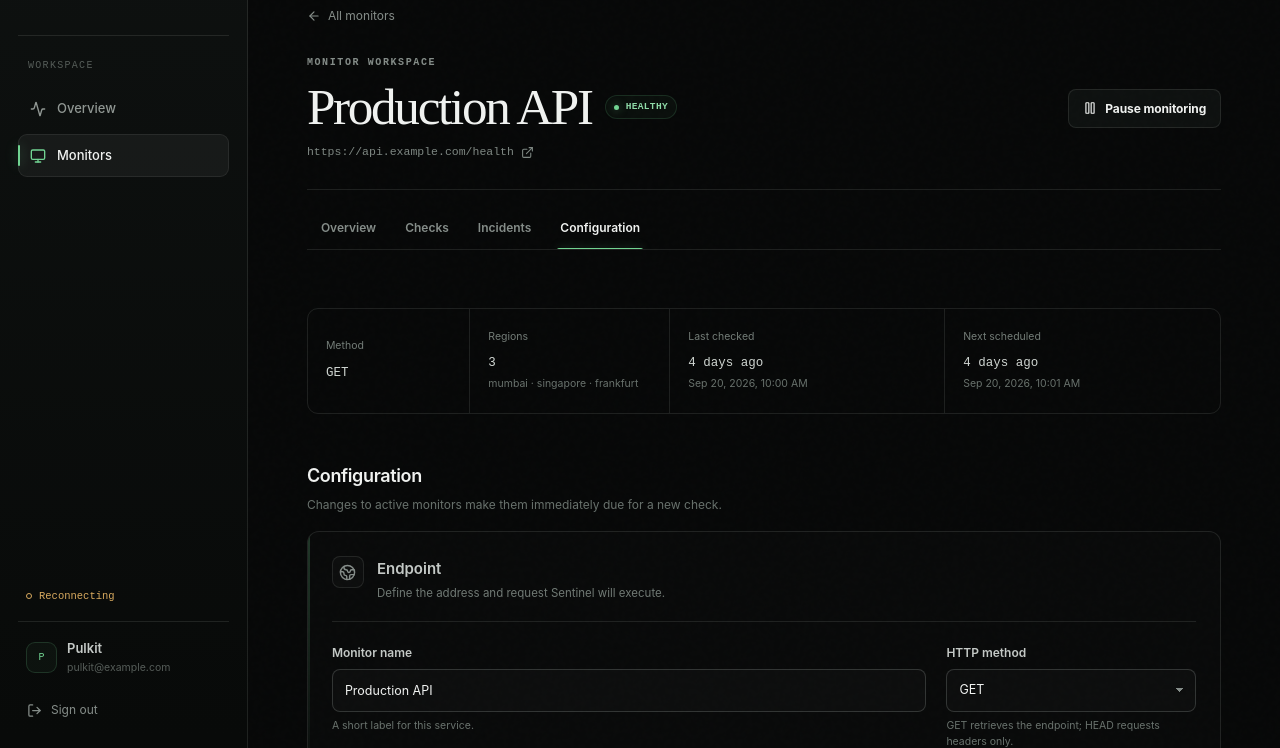
Scenario: Sentinel monitor workspace › edits a monitor with a PATCH containing only changed mutable fields
The width and height of the screenshot is (1280, 748).
Expected: the heading "Production API" is shown, [307,81,592,133]
Type "Renamed API" into the field labelled "Monitor name".
click(629, 690); type("Renamed API")  # box [332,669,926,712]
(page scrolled)
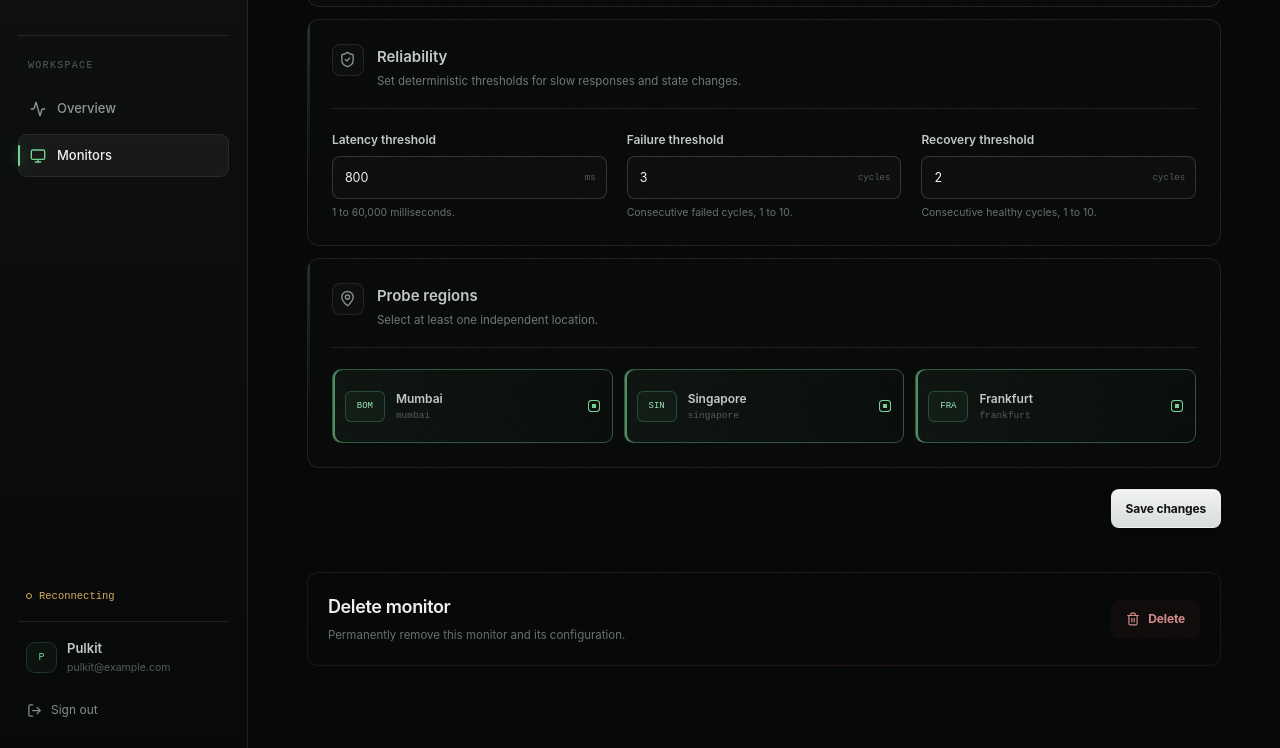
Click the button "Save changes".
click(1166, 509)  # box [1110,489,1221,528]
(page scrolled)
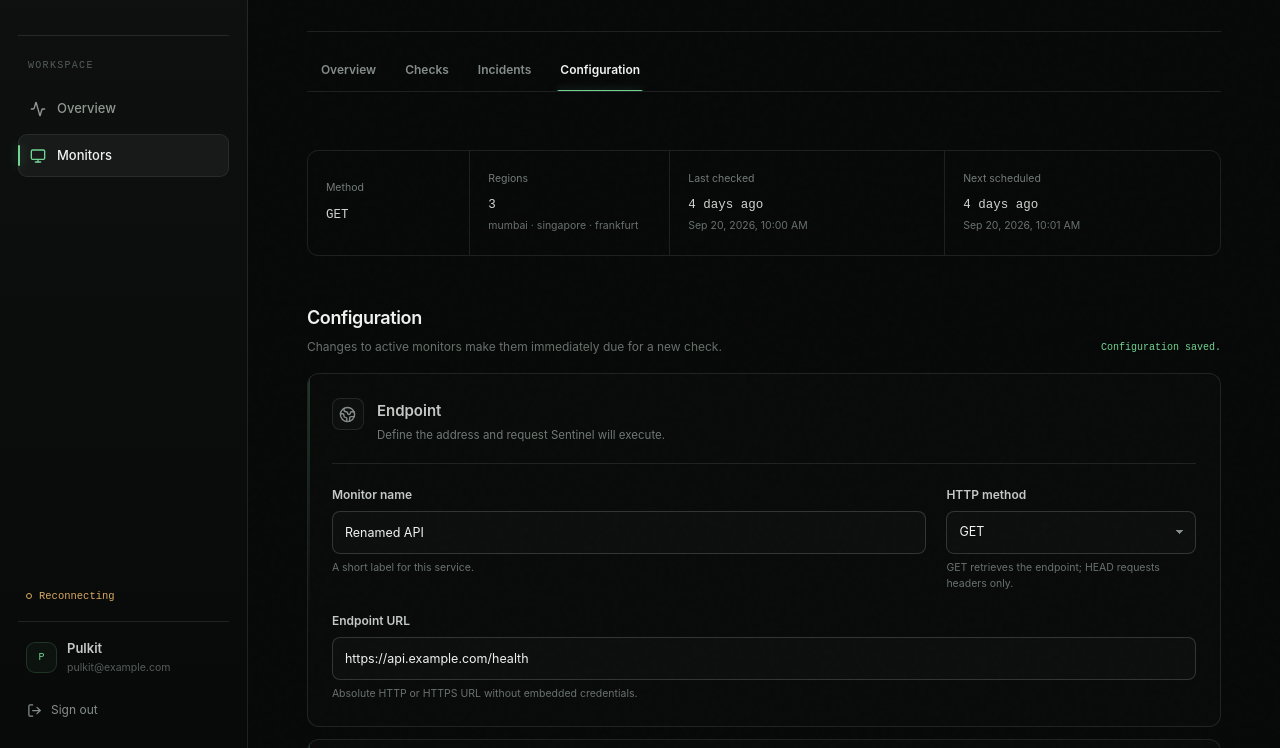
Expected: the text "Configuration saved." is shown, [1101,340,1221,356]
